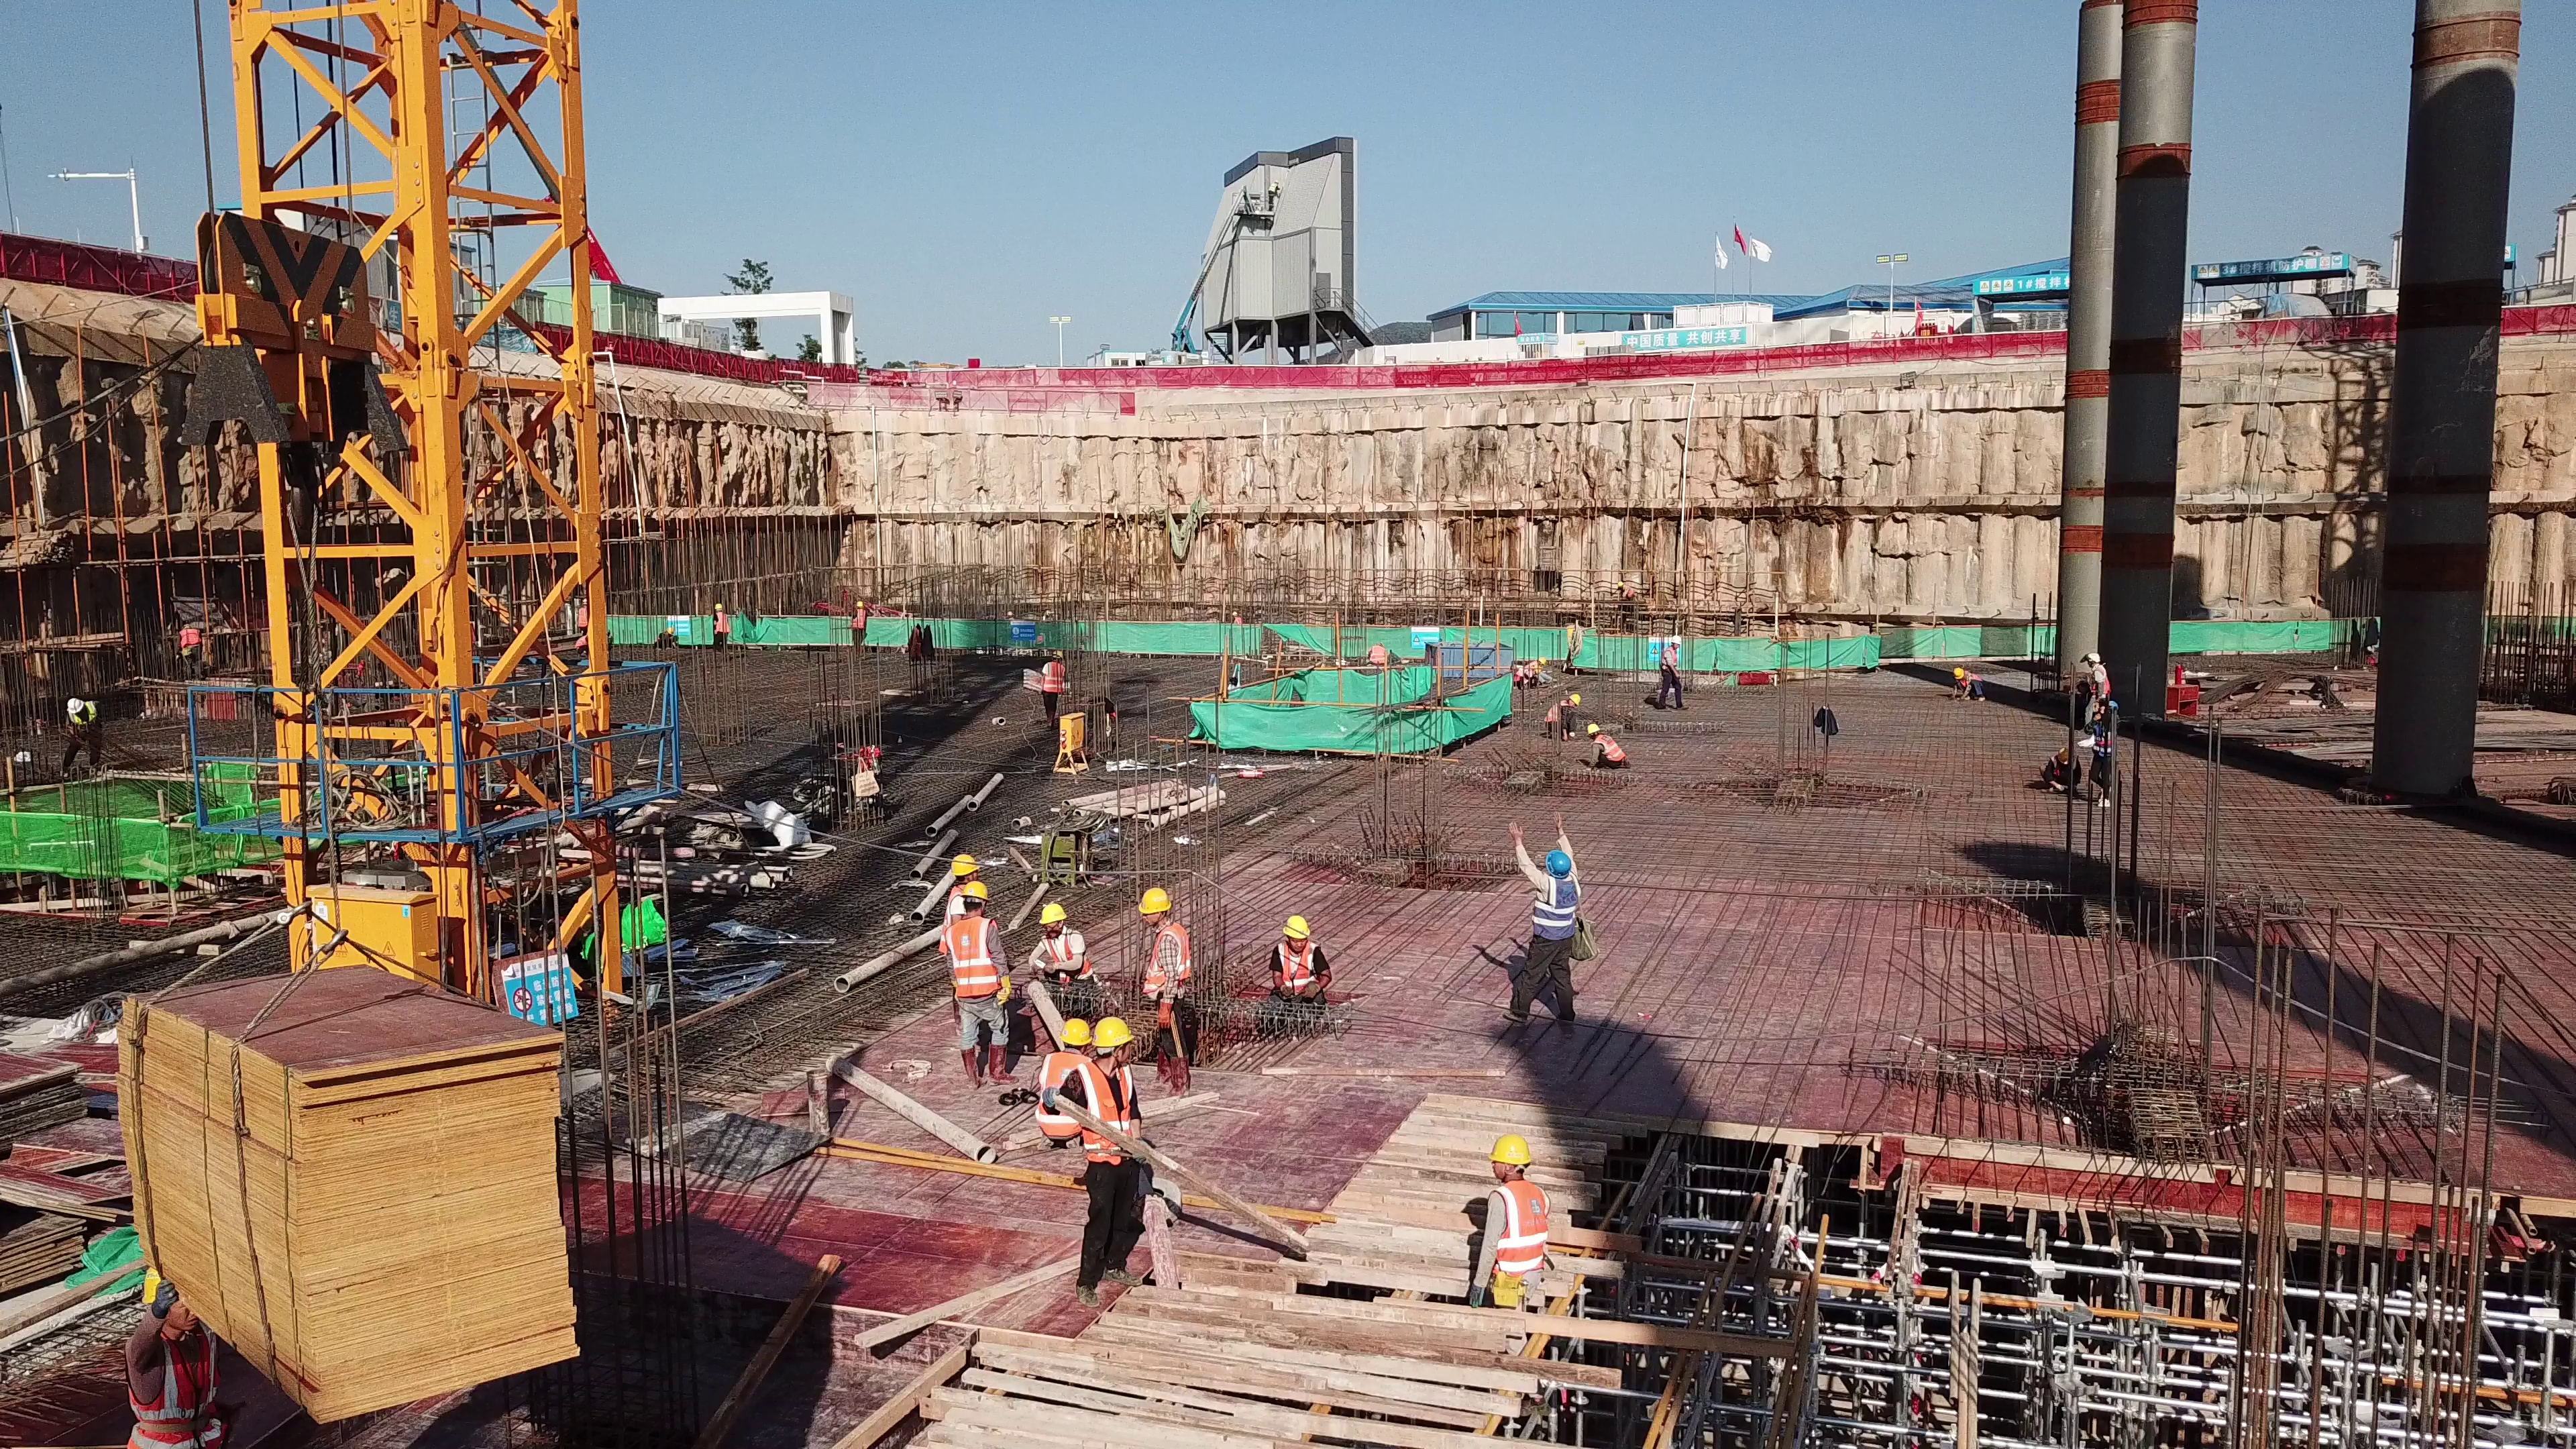helmet: (131, 1265, 195, 1295), (1083, 1018, 1134, 1050), (1485, 1134, 1542, 1162), (1058, 1016, 1089, 1050), (1034, 900, 1067, 927), (1546, 855, 1574, 881), (1139, 889, 1168, 915), (964, 876, 991, 904), (1279, 912, 1309, 938), (955, 855, 981, 874), (2053, 748, 2072, 765), (63, 696, 83, 710), (2085, 653, 2102, 666), (1569, 691, 1581, 709), (2102, 701, 2121, 712), (1585, 720, 1598, 735), (1048, 649, 1064, 660), (1670, 633, 1683, 645), (665, 625, 678, 635), (1954, 668, 1964, 681), (713, 601, 726, 610), (1535, 657, 1545, 667), (855, 600, 865, 608)
person: (121, 1259, 240, 1449), (1086, 1007, 1154, 1303), (1506, 807, 1589, 1046), (1466, 1136, 1557, 1320), (1131, 888, 1199, 1095), (955, 876, 1015, 1091), (1254, 910, 1340, 1014), (1036, 1006, 1093, 1145), (1030, 909, 1108, 991), (2090, 700, 2125, 810), (60, 690, 98, 786), (1584, 723, 1641, 785), (1654, 633, 1695, 716), (1037, 643, 1073, 729), (2041, 741, 2088, 796), (1500, 653, 1558, 688), (938, 845, 985, 887), (840, 594, 871, 655), (2078, 641, 2112, 698), (176, 615, 207, 674), (1548, 690, 1582, 745), (1946, 665, 1987, 700), (706, 604, 734, 654), (653, 621, 690, 653), (572, 596, 594, 631), (1366, 641, 1391, 670), (1617, 579, 1638, 606), (1228, 608, 1248, 625)
vest: (136, 1322, 221, 1438), (1089, 1073, 1142, 1162), (1492, 1185, 1546, 1271), (953, 921, 1006, 998), (1040, 1052, 1078, 1142), (1040, 930, 1097, 980), (1152, 927, 1189, 1000), (1277, 940, 1318, 997), (1540, 883, 1575, 943), (1597, 734, 1630, 762), (2092, 724, 2112, 757), (1043, 663, 1065, 698), (72, 713, 97, 735), (2088, 666, 2110, 694), (2051, 761, 2078, 783), (178, 629, 201, 649), (1548, 701, 1567, 725), (1662, 645, 1678, 676), (1964, 669, 1982, 692), (713, 614, 729, 635), (574, 606, 588, 628), (852, 610, 867, 630), (653, 631, 666, 646), (576, 635, 590, 647)
